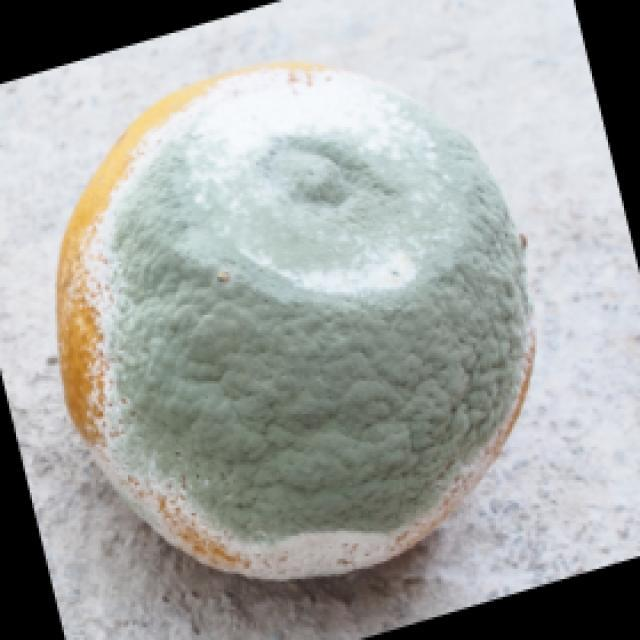sangat-busuk: (58, 63, 534, 580)
